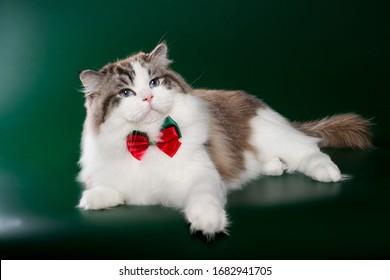ragdoll: (78, 38, 202, 144)
